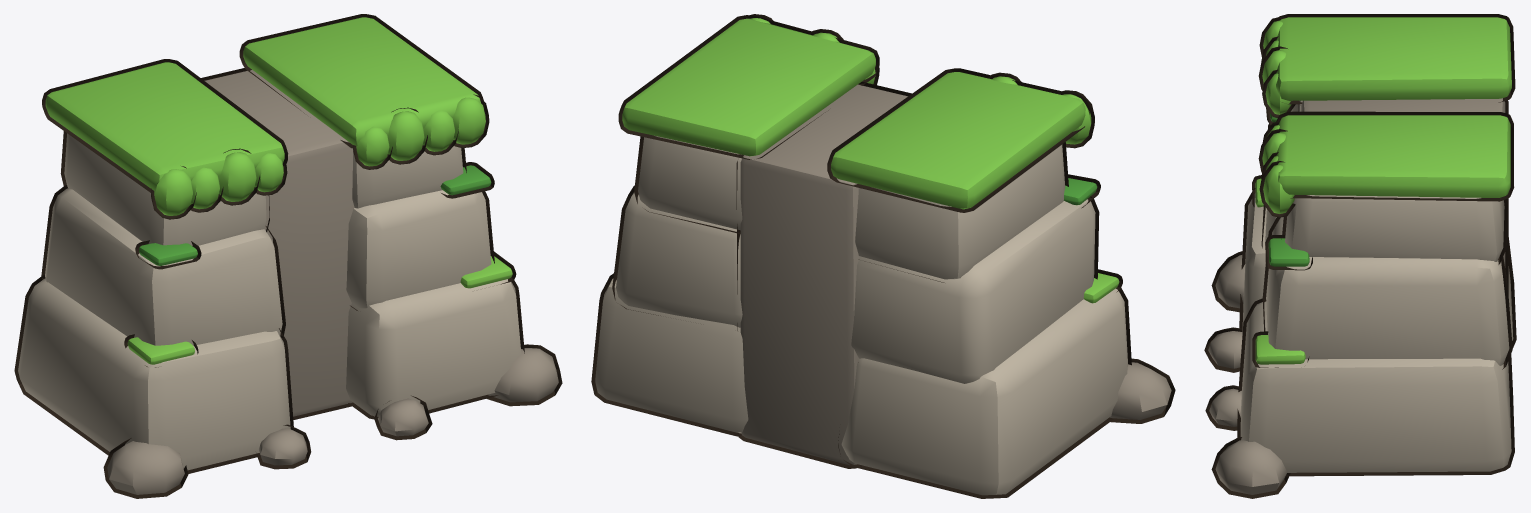
Rendered from cliff.glb.
3 views of the same model, side by side, from view 1: azimuth 30°, elevation 25°; view 2: azimuth 150°, elevation 25°; view 3: azimuth 270°, elevation 25° (orthographic). The views are drawn at different scales.
Parts seen in each view (by area): view 1: cliff; view 2: cliff; view 3: cliff.
Boxes of the visible parts, box(x1,y1,x2,y2) form: cliff: box(14, 14, 562, 498); cliff: box(591, 14, 1175, 498); cliff: box(1204, 14, 1516, 498).
Size of the model in its own units: 9.45 by 5.96 by 5.59.
